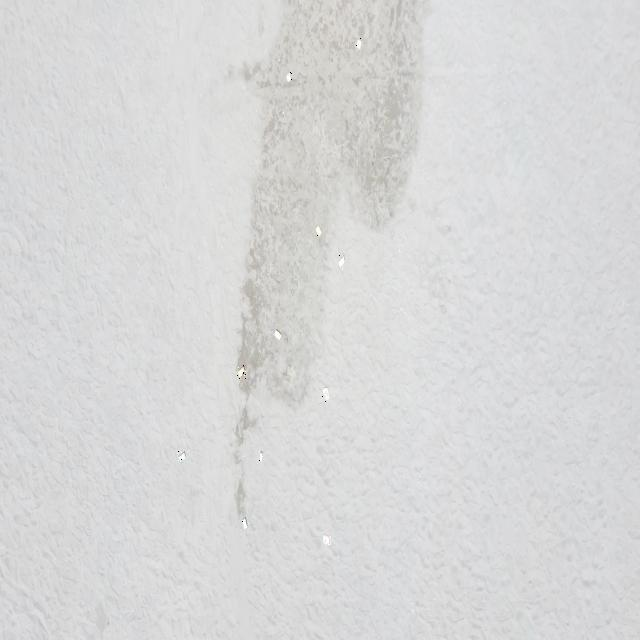retort-pouch: (322, 531, 331, 548), (177, 450, 187, 464), (322, 386, 330, 402), (338, 254, 346, 270), (237, 365, 246, 379), (241, 516, 249, 531), (274, 326, 282, 341), (316, 223, 322, 238), (356, 38, 362, 51), (286, 71, 292, 84), (259, 450, 263, 463)
